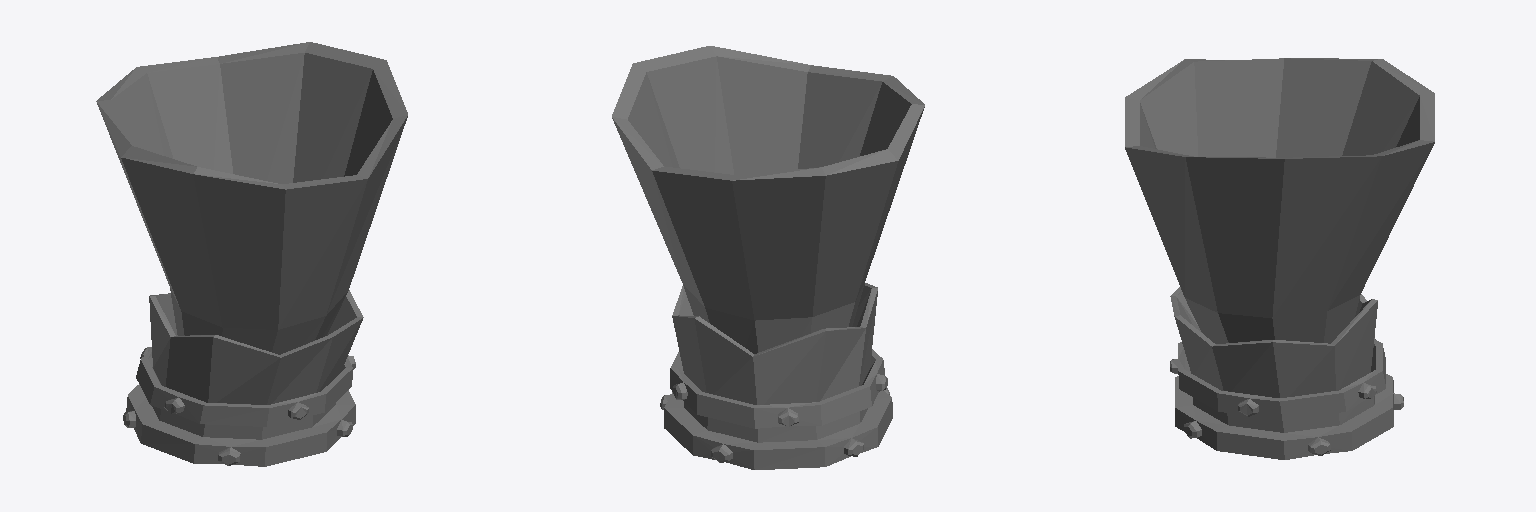
File: CupProp.obj
3 renders of one model, left to right at view 1: azimuth 30°, elevation 25°; view 2: azimuth 150°, elevation 25°; view 3: azimuth 270°, elevation 25°, orthographic.
Parts seen in each view (by area): view 1: Mesh_Cup_Prop01; view 2: Mesh_Cup_Prop01; view 3: Mesh_Cup_Prop01.
Part boxes in pixels (x1,y1,x2,y2): Mesh_Cup_Prop01: (96, 42, 407, 466); Mesh_Cup_Prop01: (612, 46, 924, 469); Mesh_Cup_Prop01: (1125, 58, 1434, 459).
Size of the model in its own units: 0.0825 by 0.096 by 0.0835.